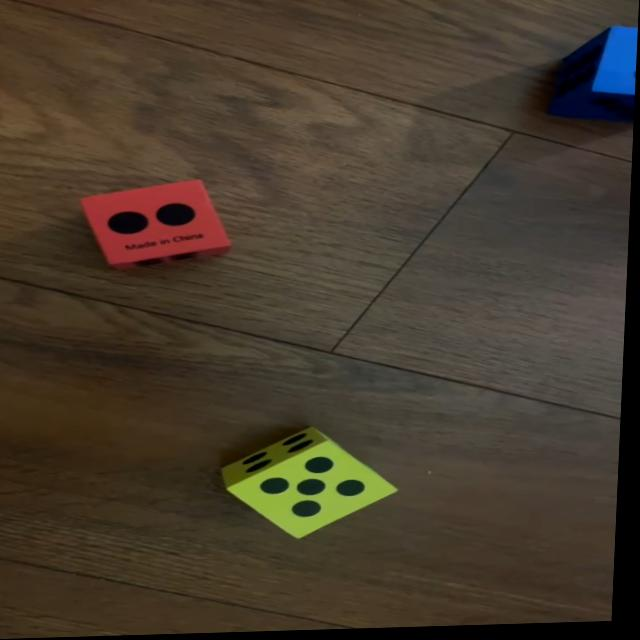blue_block: (553, 27, 639, 128)
red_block: (80, 179, 236, 271)
